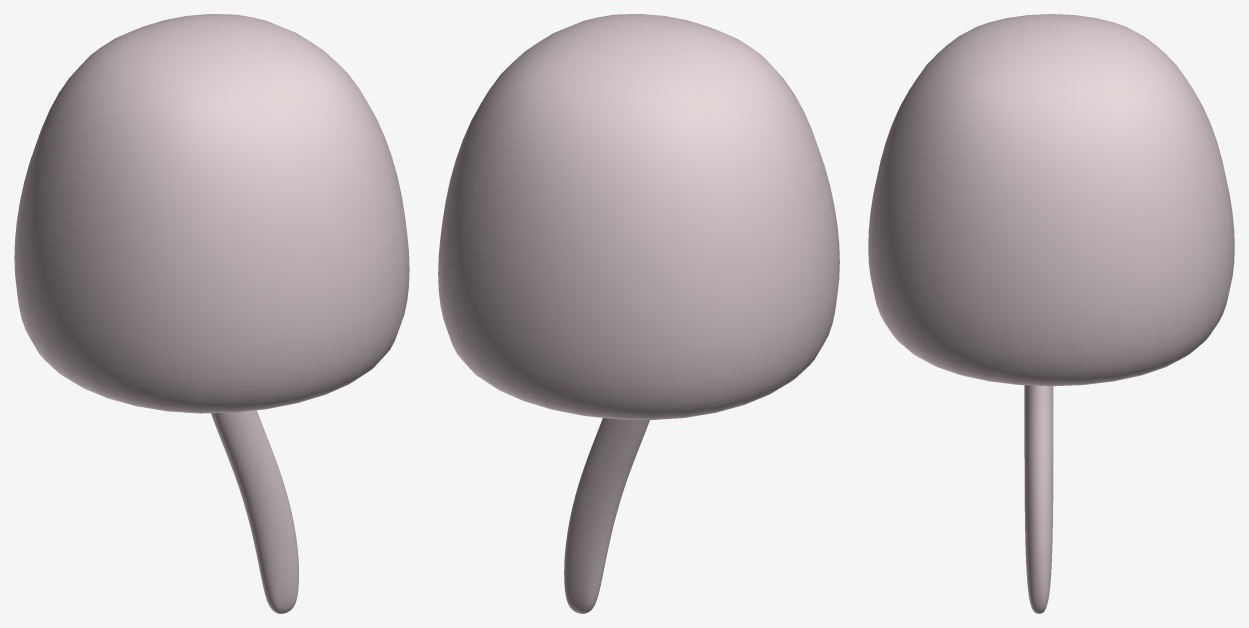
The model's file is champignon2_smooth.fbx.
3 views of the same model, side by side, from view 1: azimuth 30°, elevation 25°; view 2: azimuth 150°, elevation 25°; view 3: azimuth 270°, elevation 25° (orthographic). The views are drawn at different scales.
Parts seen in each view (by area): view 1: Champignon2._smooth; view 2: Champignon2._smooth; view 3: Champignon2._smooth.
Boxes of the visible parts, x1=… form: Champignon2._smooth: x1=14, y1=14, x2=409, y2=613; Champignon2._smooth: x1=438, y1=14, x2=839, y2=613; Champignon2._smooth: x1=868, y1=14, x2=1234, y2=613.
Size of the model in its own units: 1.15 by 1.91 by 1.15.
